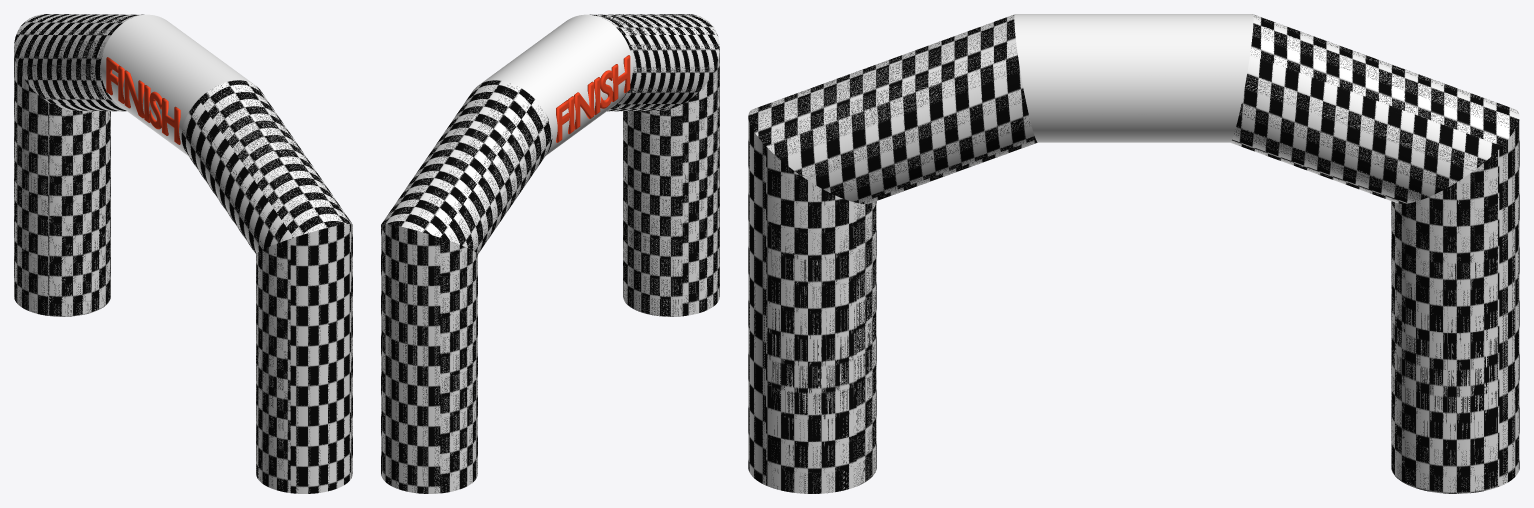
Rendered from last_finish2.dae.
The picture shows the model from 3 angles, left to right: view 1: azimuth 30°, elevation 25°; view 2: azimuth 150°, elevation 25°; view 3: azimuth 270°, elevation 25°; orthographic projection. The views are drawn at different scales.
Parts seen in each view (by area): view 1: SketchUp, SketchUp.002, Text; view 2: SketchUp, SketchUp.002, Text; view 3: SketchUp, SketchUp.002.
Boxes of the visible parts, x1=… form: SketchUp: x1=14, y1=14, x2=352, y2=493; SketchUp.002: x1=101, y1=14, x2=252, y2=155; Text: x1=106, y1=57, x2=180, y2=144; SketchUp: x1=381, y1=14, x2=719, y2=493; SketchUp.002: x1=481, y1=14, x2=632, y2=155; Text: x1=556, y1=55, x2=630, y2=142; SketchUp: x1=748, y1=14, x2=1519, y2=493; SketchUp.002: x1=1014, y1=14, x2=1253, y2=142.
Size of the model in its own units: 0.304 by 1.8 by 1.15.
3 materials, 1 textured.
